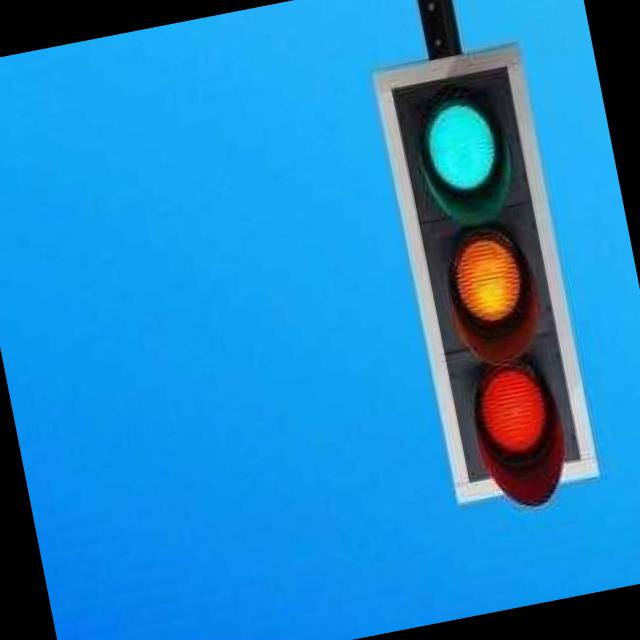green-lights: (410, 77, 525, 229)
red-lights: (458, 350, 576, 496)
yellow-lights: (436, 216, 550, 359)
